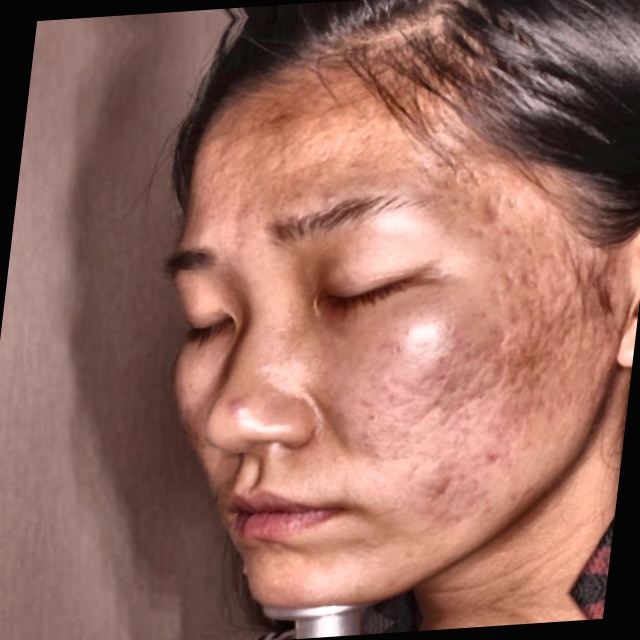comedone: (214, 385, 261, 427), (475, 439, 512, 473)
